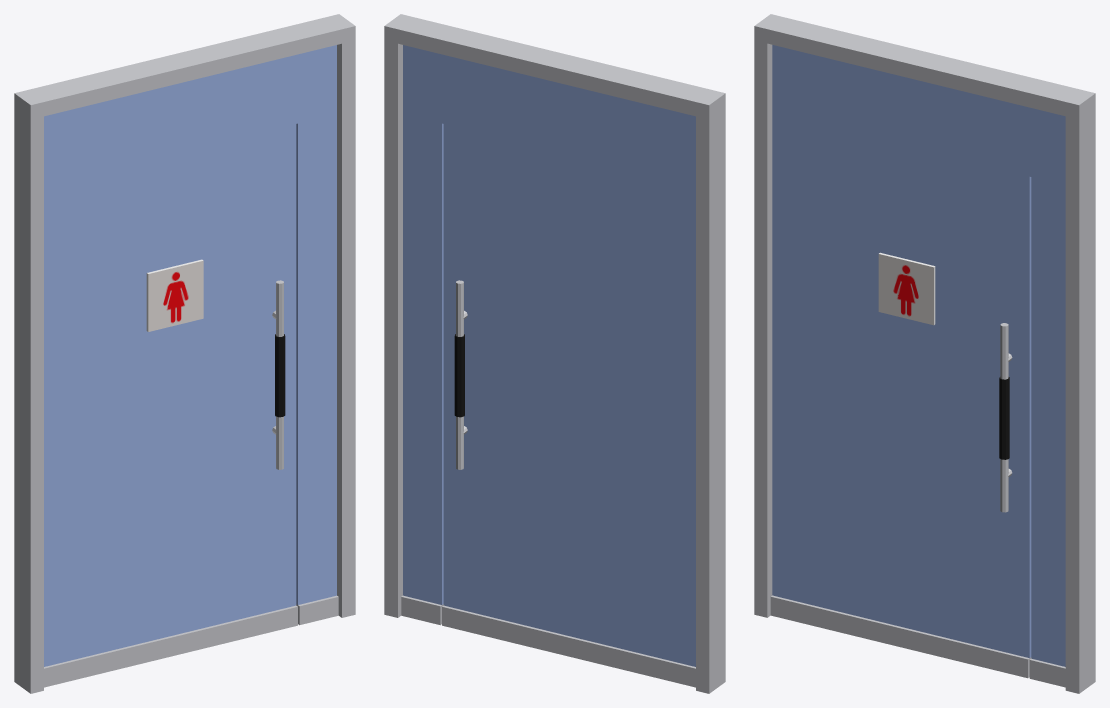
The model's file is toilet_door_woman.fbx.
The picture shows the model from 3 angles, left to right: view 1: azimuth 30°, elevation 25°; view 2: azimuth 150°, elevation 25°; view 3: azimuth 330°, elevation 25°; orthographic projection.
Visible parts, largest first — view 1: toilet_door_woman; view 2: toilet_door_woman; view 3: toilet_door_woman.
Boxes of the visible parts, x1=… form: toilet_door_woman: x1=14, y1=14, x2=355, y2=693; toilet_door_woman: x1=384, y1=14, x2=725, y2=693; toilet_door_woman: x1=754, y1=14, x2=1095, y2=693.
Bounding box in the file's own units: 0.0125 × 0.0216 × 0.00139.
Materials: 1 (1 with a texture image).
